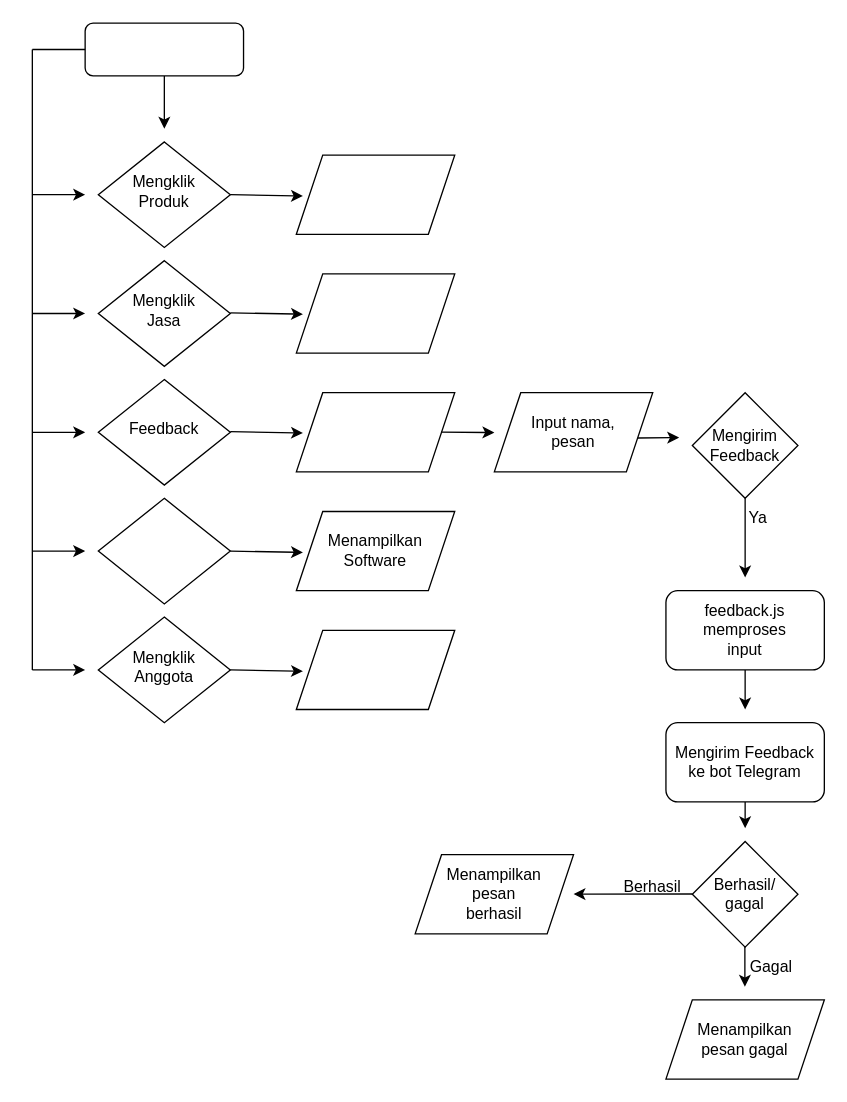
Image size: 847x1102. Some labels were removed from this diagram. The shapes that lost their labels are listed below. From the top down, each one's box as (x1, y1, x2, y2) in pixels, then its label:
(84, 22, 244, 76): Website
(295, 154, 455, 234): Menampilkan Produk
(295, 273, 455, 353): Menampilkan Jasa
(295, 391, 455, 472): Menampilkan Feedback
(97, 497, 230, 604): Mengklik Software
(295, 629, 455, 710): Menampilkan Anggota
